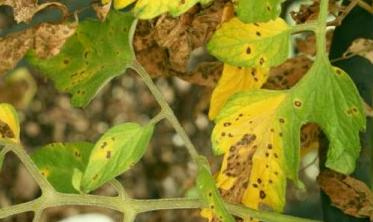Tomato Septoria leaf spot: (190, 62, 323, 222), (205, 8, 297, 75)
